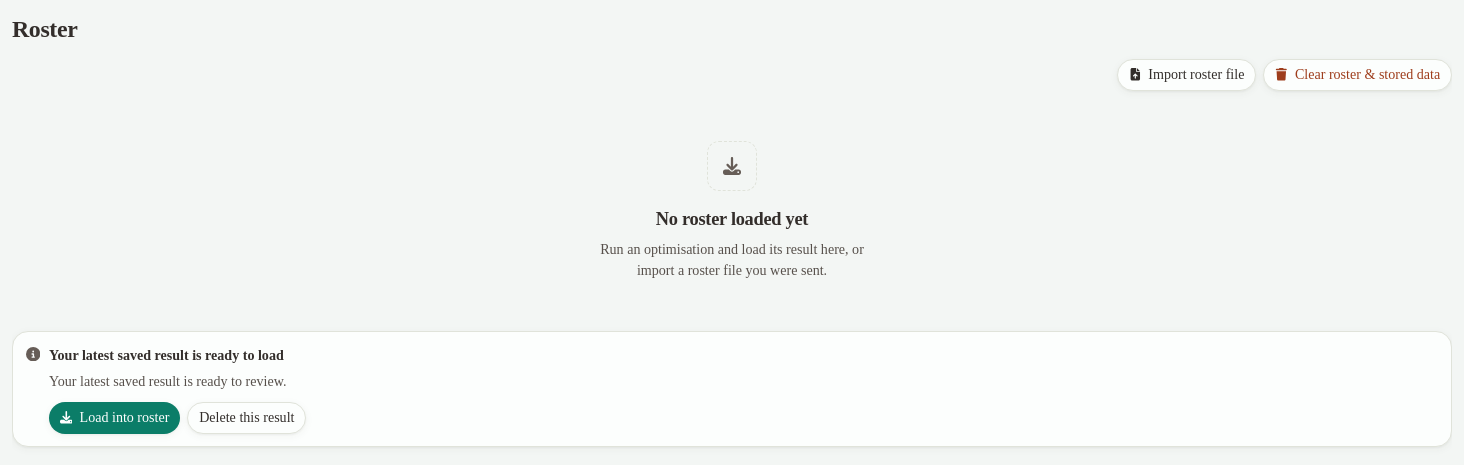
Scenario: RosterSection — durable Load authority › Load promotes the candidate and the viewer then renders it
Click the button with test id "roster-candidate-load" at (115, 418), box [49,402,180,434]
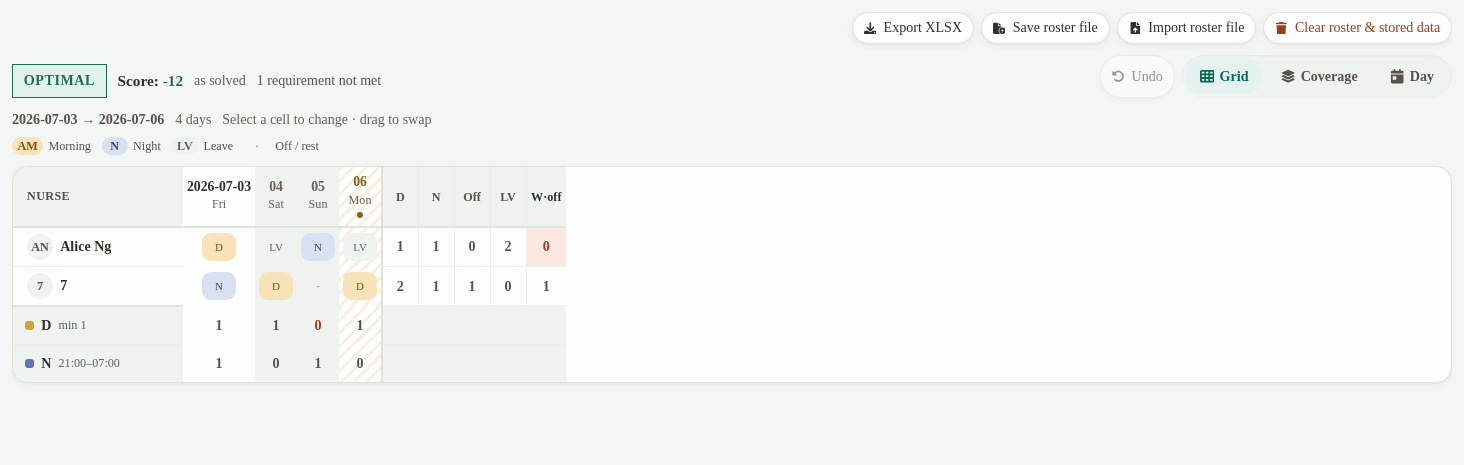
Result: the element with test id "roster-viewer" is shown
